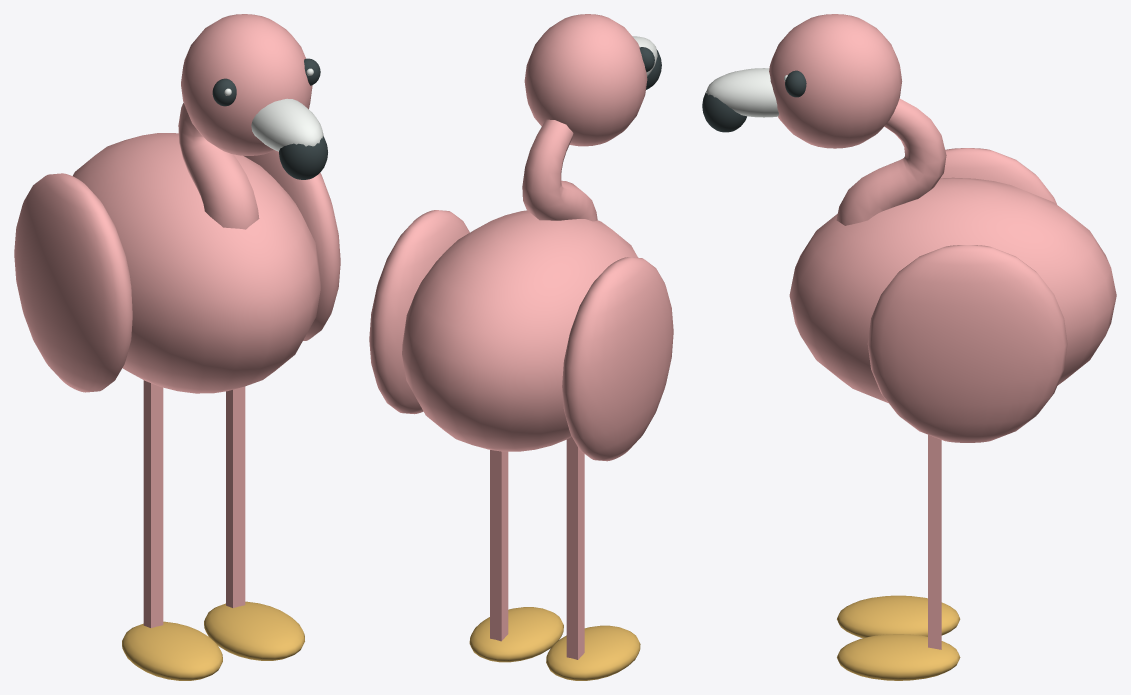
File: city-flamingo.glb
3 views of the same model, side by side, from view 1: azimuth 30°, elevation 25°; view 2: azimuth 150°, elevation 25°; view 3: azimuth 270°, elevation 25° (orthographic). The views are drawn at different scales.
Visible parts, largest first — view 1: Animal_flamingo; view 2: Animal_flamingo; view 3: Animal_flamingo.
Boxes of the visible parts, x1,y1,x2,y2 form: Animal_flamingo: [14, 14, 340, 680]; Animal_flamingo: [369, 14, 673, 680]; Animal_flamingo: [702, 14, 1116, 680].
Size of the model in its own units: 1.62 by 3.85 by 2.28.
